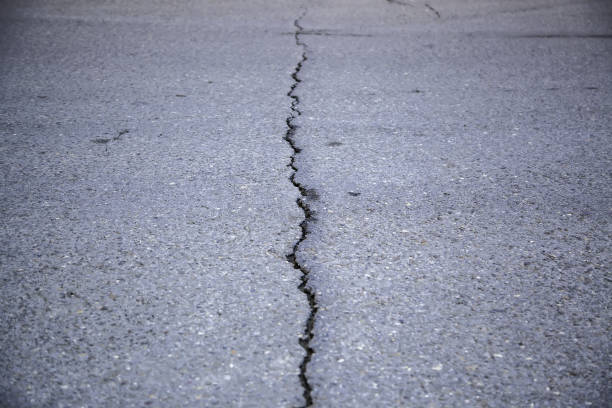Retak Melintang: (208, 1, 442, 408)
